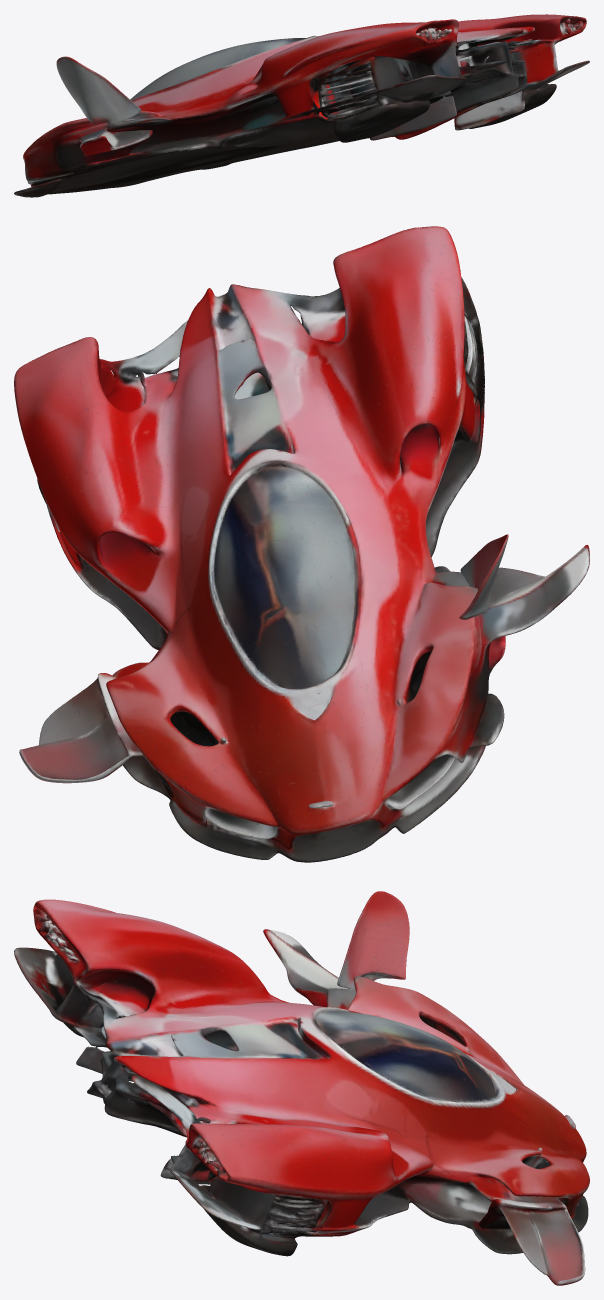
File: racer.glb
3 views of the same model, one above another, from view 1: azimuth 30°, elevation 25°; view 2: azimuth 150°, elevation 25°; view 3: azimuth 270°, elevation 25° (orthographic). The views are drawn at different scales.
Size of the model in its own units: 0.8994 by 0.5507 by 0.8149.
Materials: 1 (1 with a texture image).
